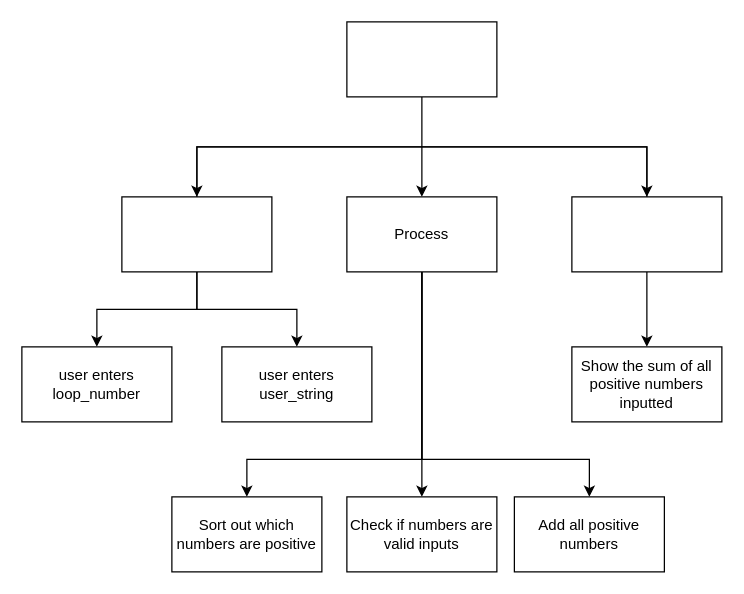
This 744x594 diagram has some shape labels left out. The centre of each missing label's shape, as x and y in pixels:
"Addition" goes at (421,59).
"Input" goes at (196,234).
"Output" goes at (646,234).
